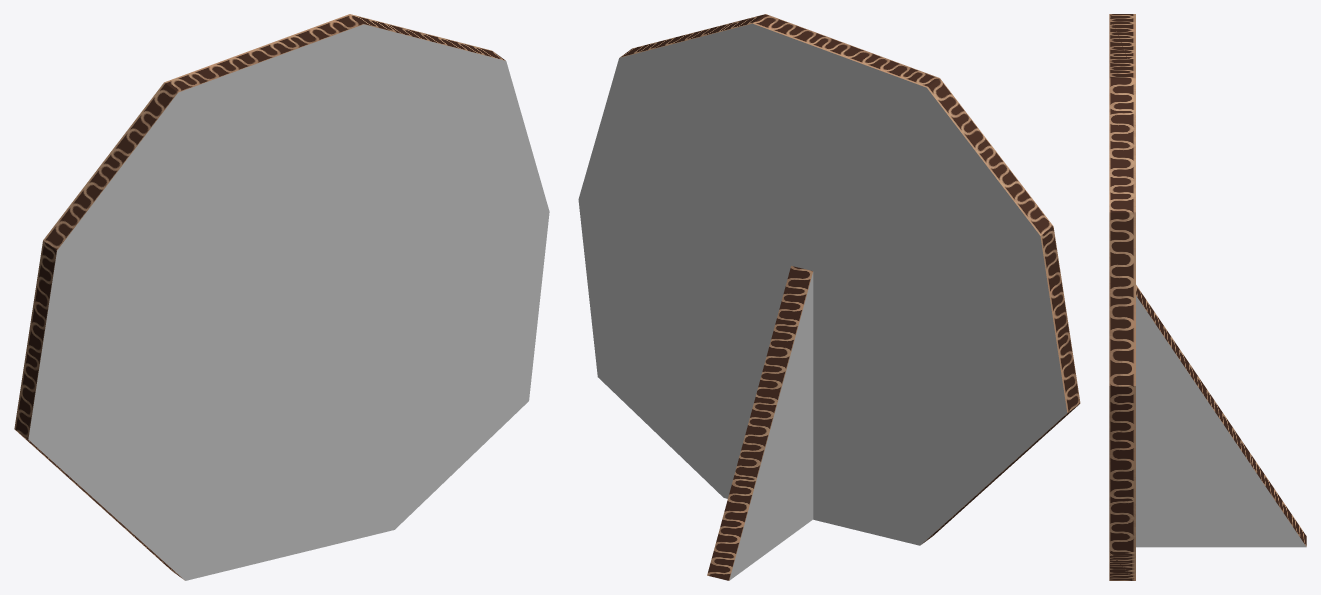
The model's file is Roue.fbx.
3 views of the same model, side by side, from view 1: azimuth 30°, elevation 25°; view 2: azimuth 150°, elevation 25°; view 3: azimuth 270°, elevation 25° (orthographic). The views are drawn at different scales.
Parts seen in each view (by area): view 1: Roue_LOD0; view 2: Roue_LOD0; view 3: Roue_LOD0.
Part boxes in pixels (<box>): Roue_LOD0: <box>14,14,549,580</box>; Roue_LOD0: <box>578,14,1080,580</box>; Roue_LOD0: <box>1109,14,1306,580</box>.
Bounding box in the file's own units: 284 × 267 × 97.87.
